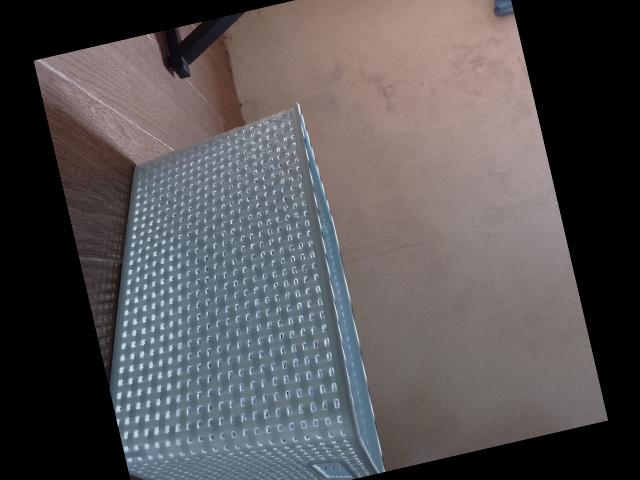cart: (108, 101, 384, 480)
